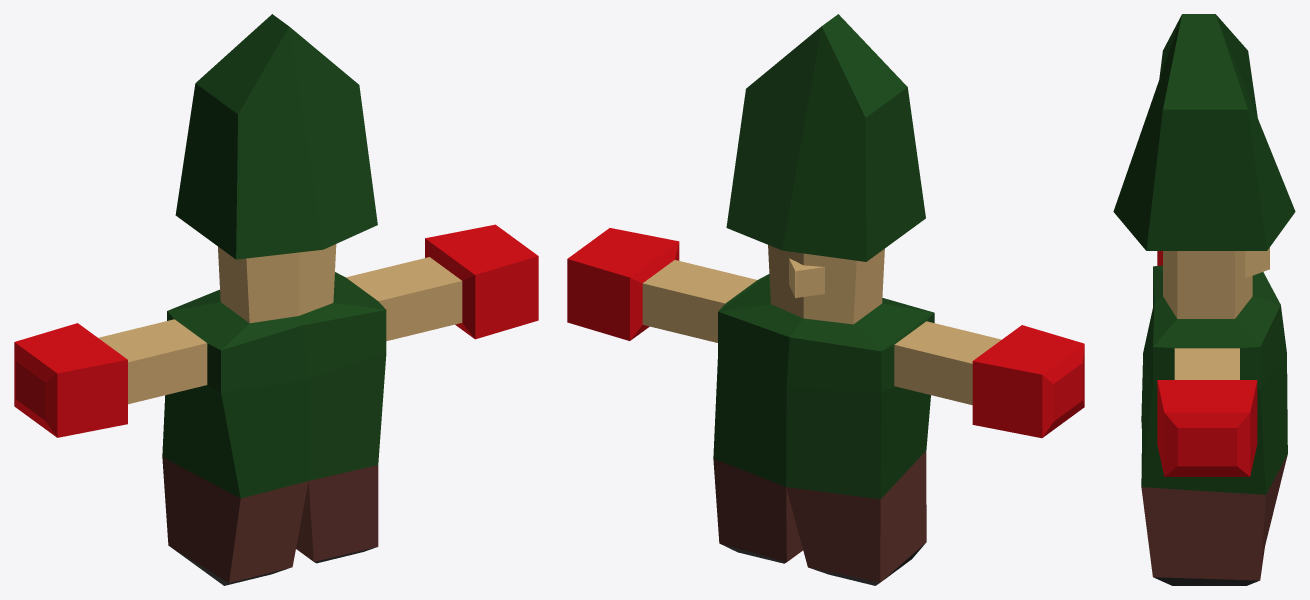
The model's file is gnome-boxer-by-portomat-6uAogR8224.glb.
The picture shows the model from 3 angles, left to right: view 1: azimuth 30°, elevation 25°; view 2: azimuth 150°, elevation 25°; view 3: azimuth 270°, elevation 25°; orthographic projection.
Parts seen in each view (by area): view 1: Cube; view 2: Cube; view 3: Cube.
Part boxes in pixels (x1,y1,x2,y2): Cube: [14, 14, 538, 585]; Cube: [567, 14, 1084, 585]; Cube: [1113, 14, 1295, 585].
Bounding box in the file's own units: 6.07 × 6.37 × 1.95.
